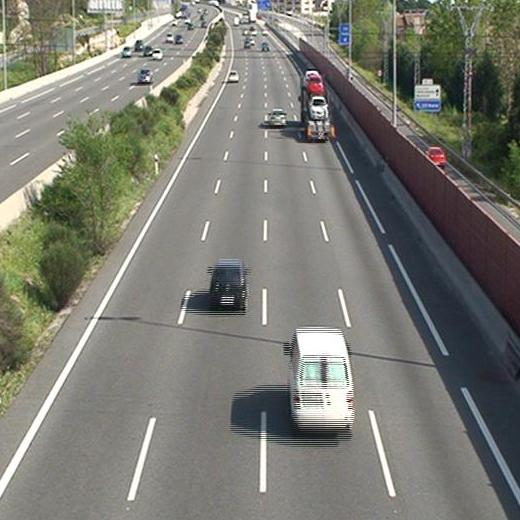car: (209, 260, 247, 307), (309, 95, 329, 120), (269, 108, 287, 126), (307, 75, 323, 93), (227, 71, 239, 82)
truck: (300, 71, 335, 140)
van: (287, 328, 353, 433)
